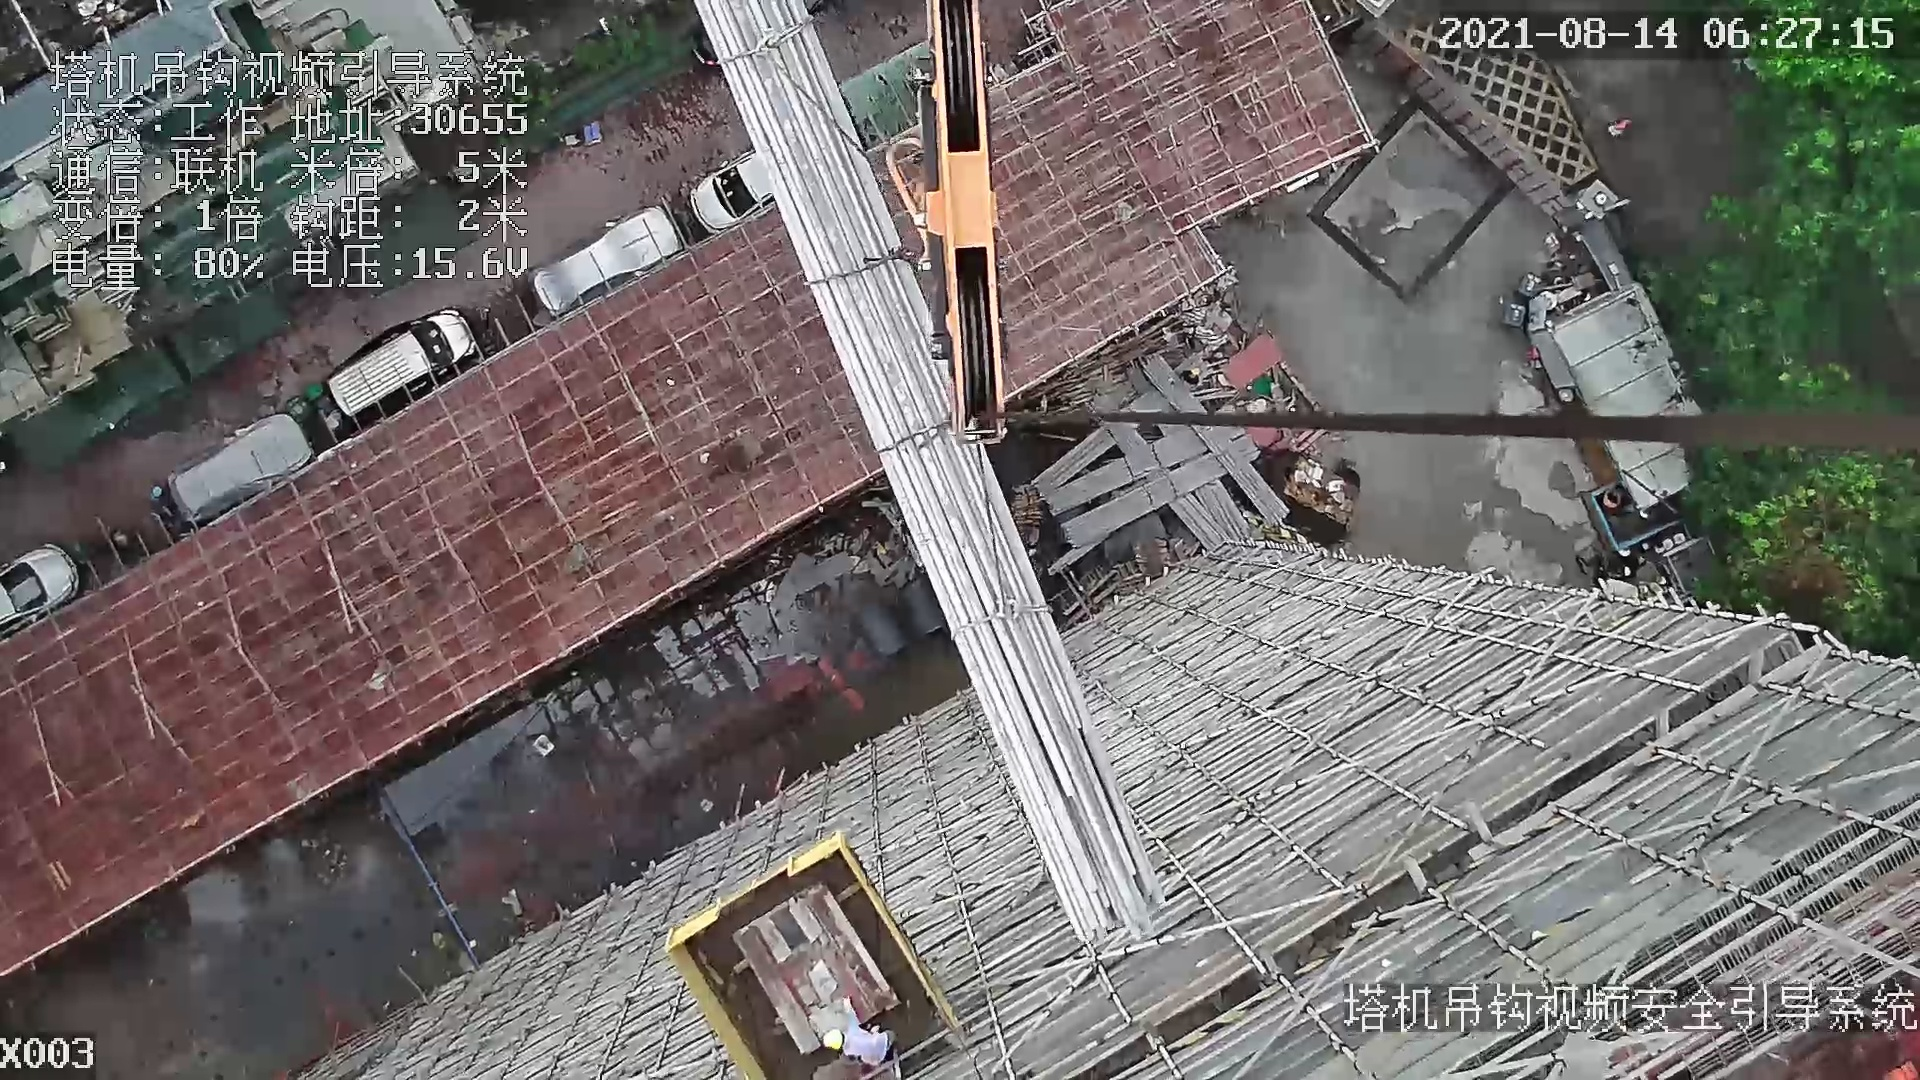helmet: (822, 1023, 851, 1055)
hook: (924, 1, 1015, 448)
person: (818, 1019, 897, 1063)
